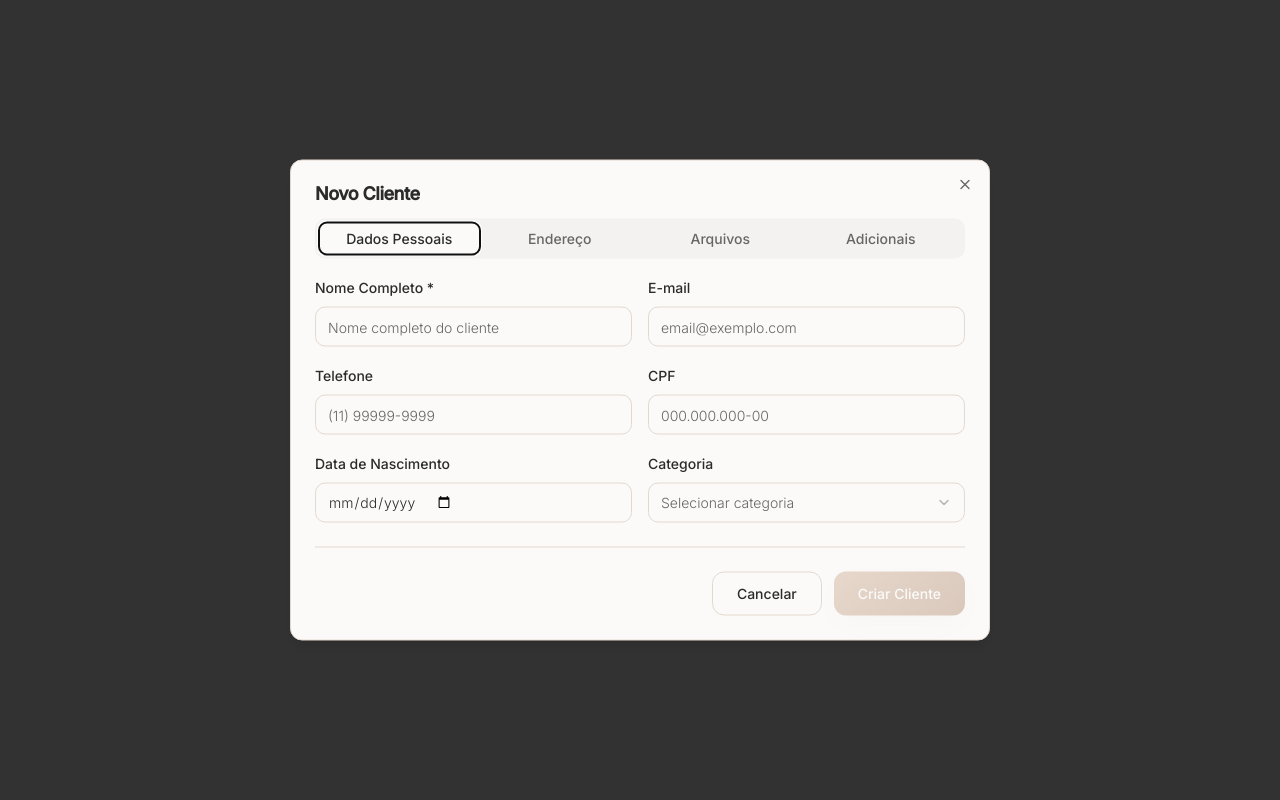
Scenario: NovoClienteModal › formats CPF correctly
The width and height of the screenshot is (1280, 800).
Navigate to the first tab to access CPF field
Type "12345678901" into the field labelled "CPF" at (806, 414), box [648,394,965,434]
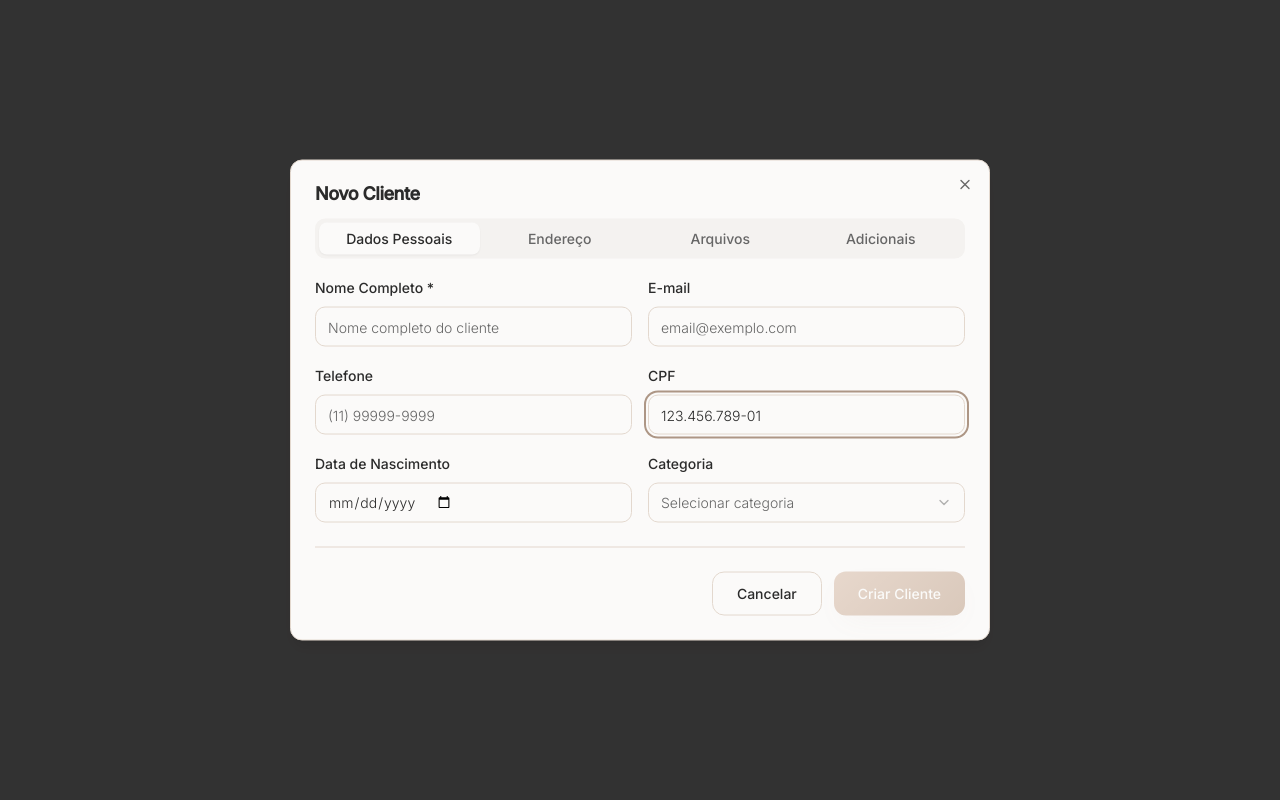
Now the field labelled "CPF" holds "123.456.789-01", box [648,394,965,434]
